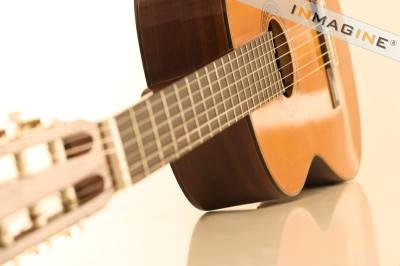guitar: (1, 1, 362, 265)
